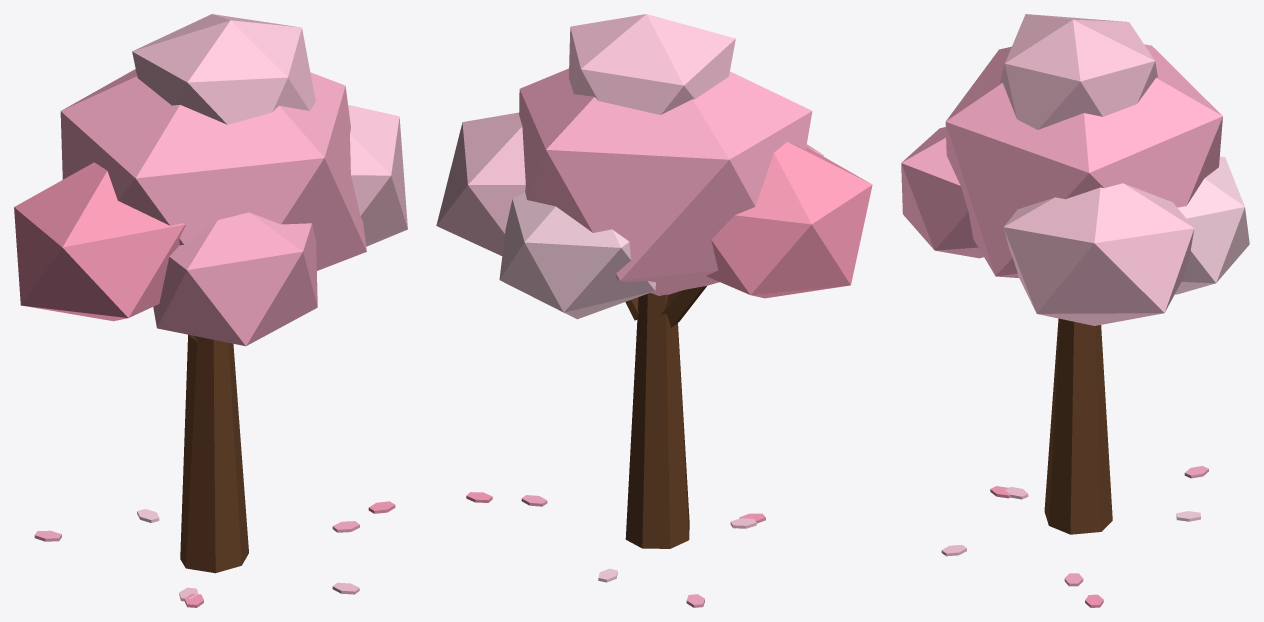
Rendered from cherry-tree-a.glb.
The picture shows the model from 3 angles, left to right: view 1: azimuth 30°, elevation 25°; view 2: azimuth 150°, elevation 25°; view 3: azimuth 270°, elevation 25°; orthographic projection. The views are drawn at different scales.
Parts seen in each view (by area): view 1: cherry-tree-a; view 2: cherry-tree-a; view 3: cherry-tree-a.
Boxes of the visible parts, x1,y1,x2,y2 form: cherry-tree-a: [14, 14, 407, 607]; cherry-tree-a: [436, 14, 872, 607]; cherry-tree-a: [901, 14, 1249, 607].
Bounding box in the file's own units: 2.75 × 3.61 × 2.24.
